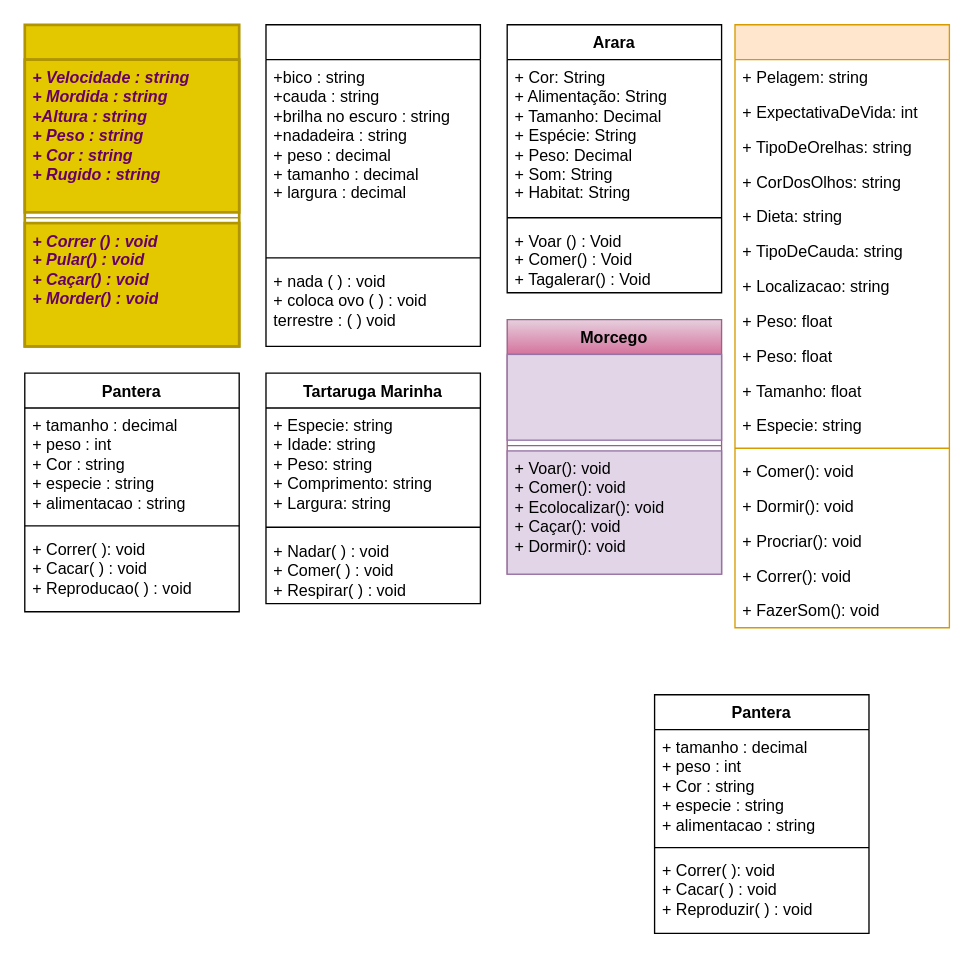
Image size: 973x959. Some labels were removed from this diagram. The shapes that lost their labels are listed below. From the top down, each one's box as (x1, y1, x2, y2) in pixels, then its label:
(23, 23, 240, 347): Leão
(265, 23, 480, 346): ornitorrinco
(734, 23, 949, 628): Raposa
(506, 353, 722, 440): + Tamanho: decimal + Alimento: string + Peso: decimal + Cor: string
